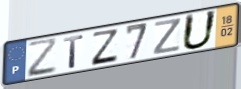7: (125, 21, 150, 61)
T: (62, 34, 86, 70)
U: (180, 9, 219, 52)
Z: (26, 36, 59, 79), (152, 17, 184, 57), (90, 28, 120, 67)
